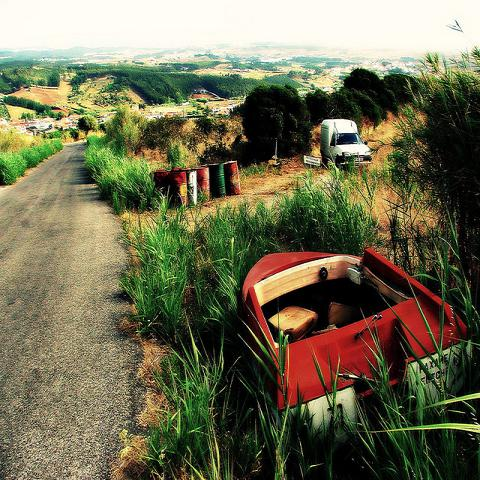truck: (320, 119, 372, 171)
